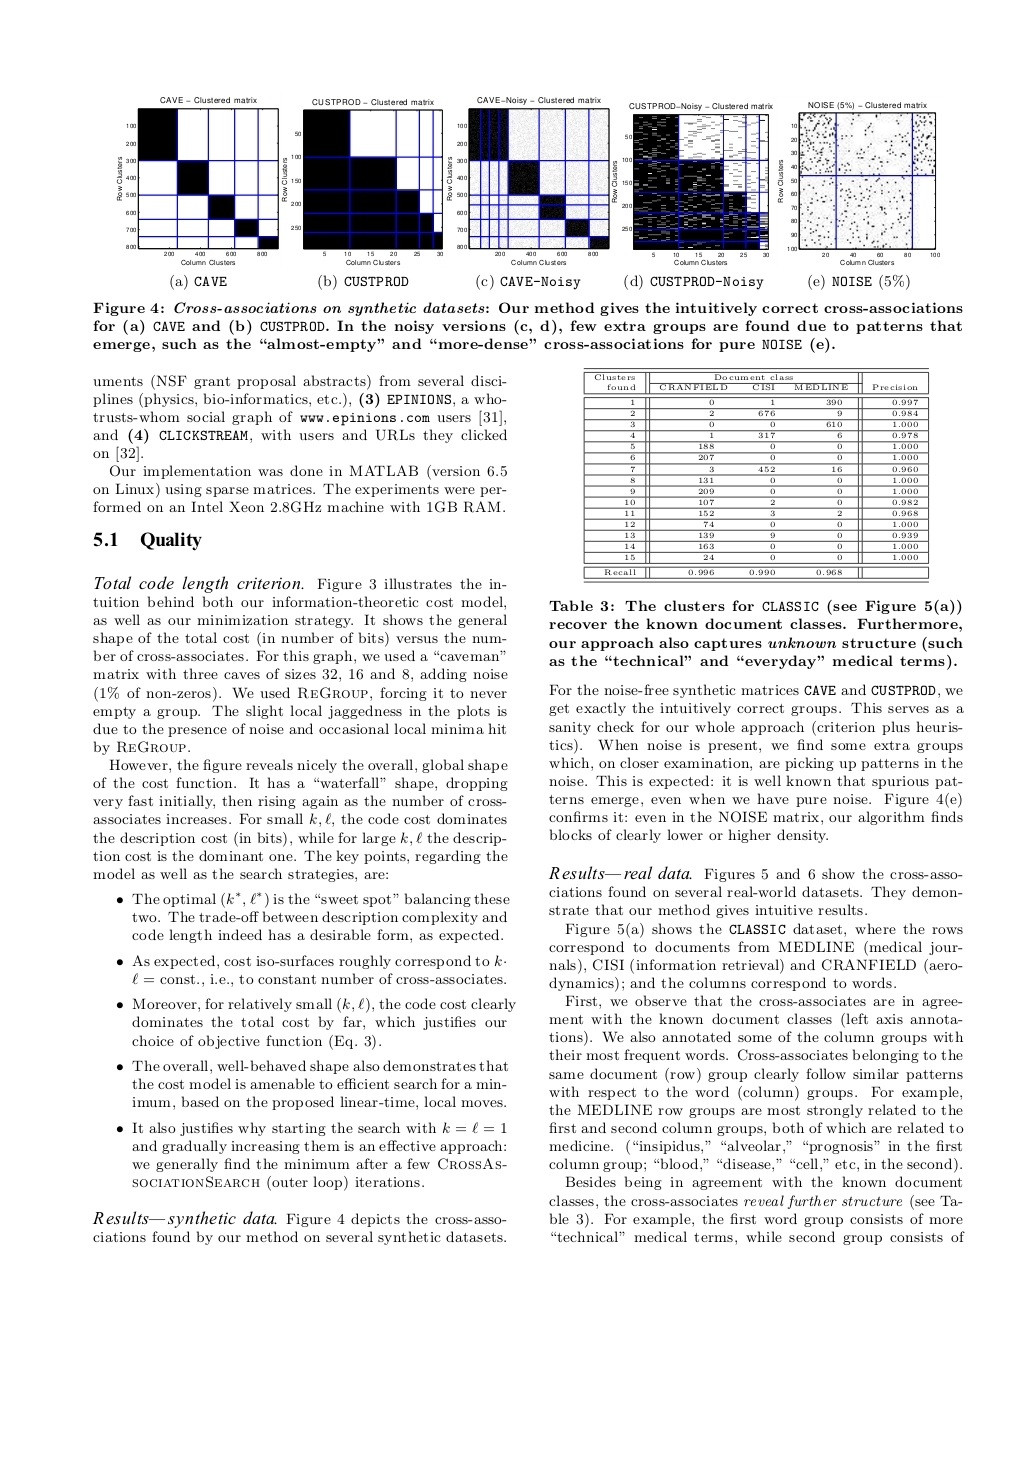Table: (583, 367, 929, 583)
figure: (116, 111, 287, 265), (457, 108, 614, 265), (625, 109, 778, 265), (787, 108, 939, 265), (295, 109, 447, 265)
